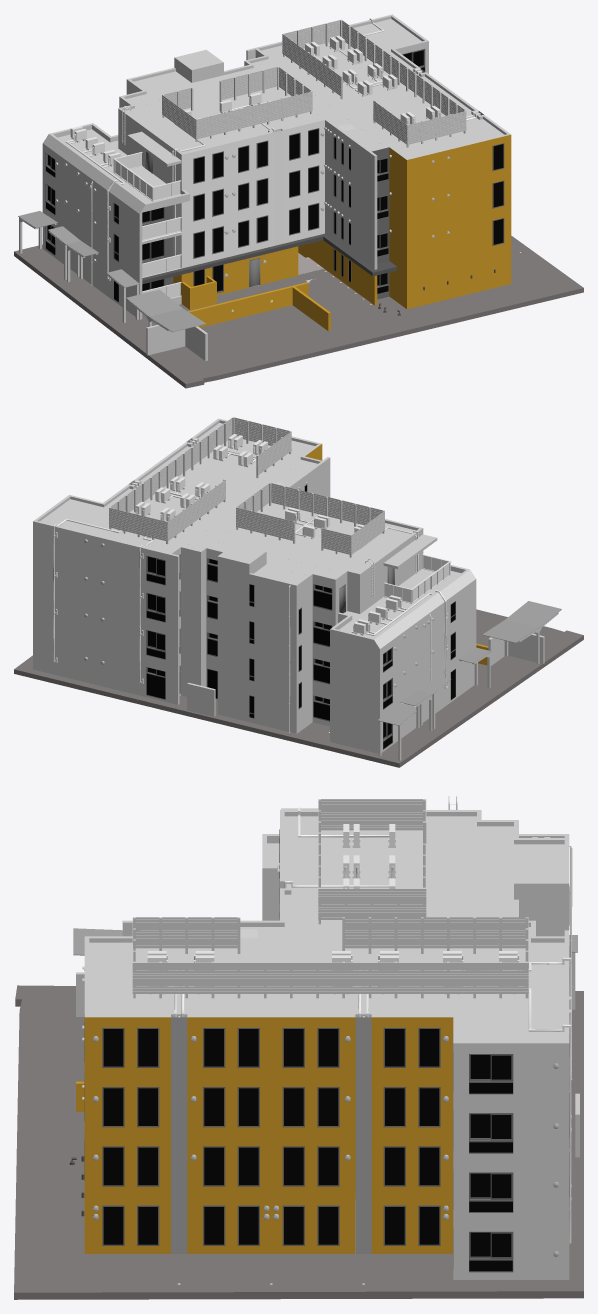
File: nishishinjuku.glb
The picture shows the model from 3 angles, top to bottom: view 1: azimuth 30°, elevation 25°; view 2: azimuth 150°, elevation 25°; view 3: azimuth 270°, elevation 25°; orthographic projection. The views are drawn at different scales.
Parts seen in each view (by area): view 1: 1F_others, 4F_others, 1F_floor, RF_others, 2F_others, 3F_others, RF_floor, 4F_floor; view 2: 1F_others, 4F_others, RF_others, 2F_others, 3F_others, RF_floor, 1F_floor, 4F_floor; view 3: RF_floor, RF_others, 1F_floor, 4F_others, 1F_others, 2F_others, 3F_others.
Boxes of the visible parts, x1,y1,x2,y2 form: 1F_others: [14, 211, 583, 388]; 4F_others: [43, 41, 511, 213]; 1F_floor: [14, 236, 583, 383]; RF_others: [118, 14, 510, 159]; 2F_others: [42, 177, 511, 285]; 3F_others: [42, 143, 511, 247]; RF_floor: [126, 19, 504, 158]; 4F_floor: [58, 129, 165, 202]; 1F_others: [14, 601, 583, 767]; 4F_others: [33, 438, 475, 648]; RF_others: [33, 417, 422, 597]; 2F_others: [33, 598, 476, 719]; 3F_others: [33, 561, 476, 682]; RF_floor: [40, 423, 415, 583]; 1F_floor: [14, 609, 583, 763]; 4F_floor: [339, 569, 460, 637]; RF_floor: [89, 816, 569, 1041]; RF_others: [84, 796, 571, 1043]; 1F_floor: [14, 985, 583, 1292]; 4F_others: [82, 808, 572, 1106]; 1F_others: [14, 928, 583, 1299]; 2F_others: [82, 898, 572, 1225]; 3F_others: [82, 879, 571, 1166].
Bounding box in the file's own units: 27.79 × 11.6 × 21.79.
